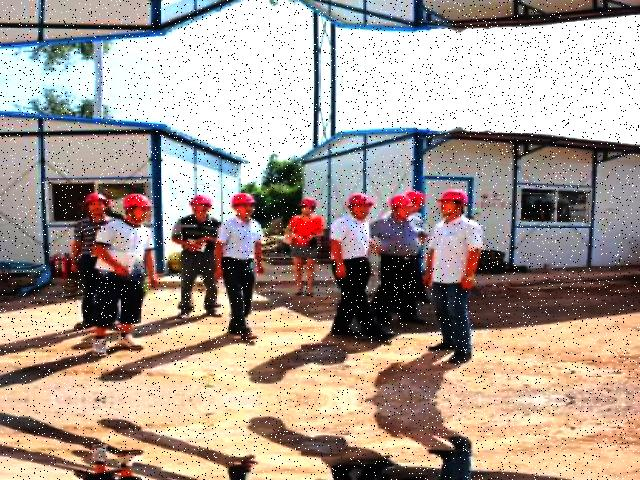Helmet: (116, 190, 157, 210), (77, 190, 109, 209), (435, 188, 467, 207), (343, 190, 371, 210), (384, 191, 412, 211), (227, 190, 256, 207), (183, 191, 212, 207), (292, 195, 316, 210)
